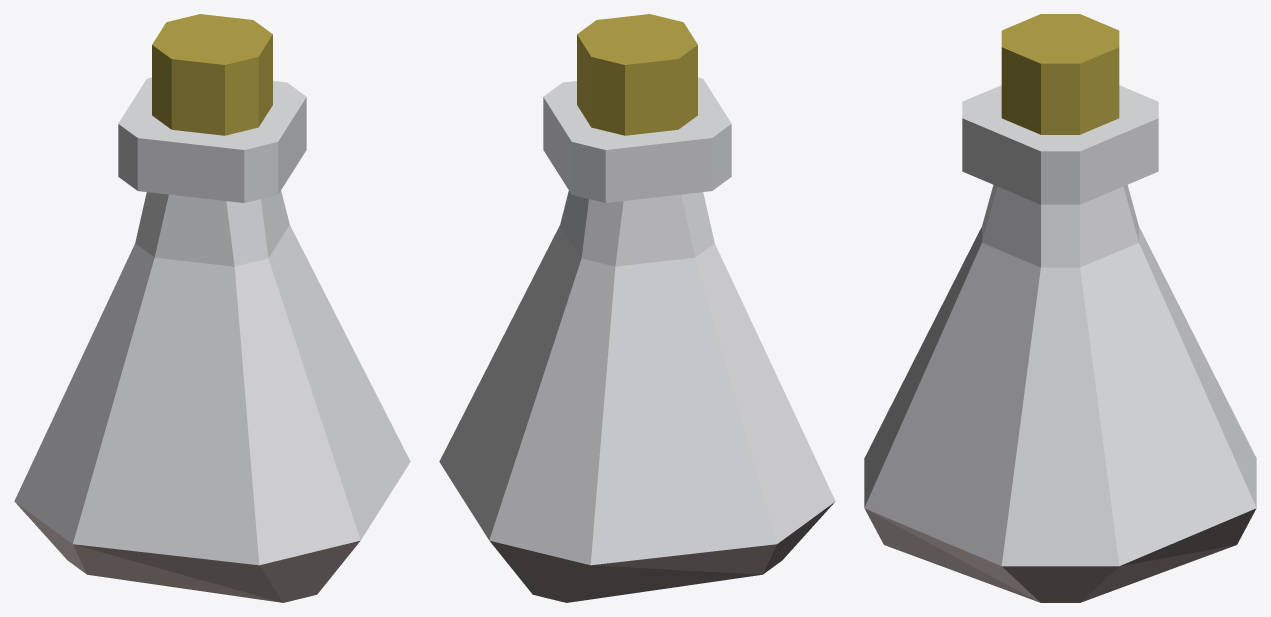
Rendered from inv_zamorak_potion_1.obj.
The picture shows the model from 3 angles, left to right: view 1: azimuth 30°, elevation 25°; view 2: azimuth 150°, elevation 25°; view 3: azimuth 270°, elevation 25°; orthographic projection.
Size of the model in its own units: 0.1562 by 0.2188 by 0.1562.
